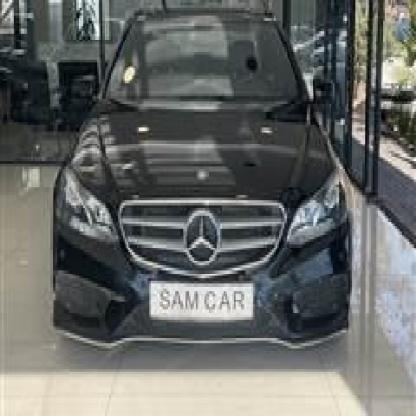Car: (45, 8, 357, 364)
